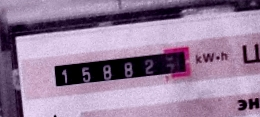1: (59, 67, 69, 84)
2: (142, 57, 154, 75)
5: (80, 65, 91, 82)
7: (165, 61, 175, 73)
8: (121, 60, 133, 78), (101, 63, 112, 80)
screen: (46, 41, 197, 96)
